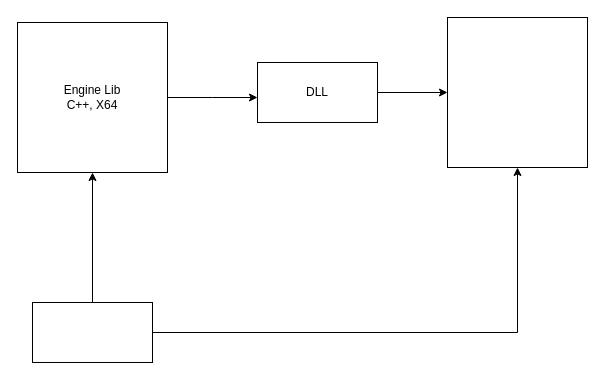
This 605x380 diagram has some shape labels left out. The shapes that lost their labels are listed below. From the top down, each one's centre as x and y in pixels, then its label:
the point at 517,92: Level Editor C#, WPF
the point at 92,332: Game Code C++
